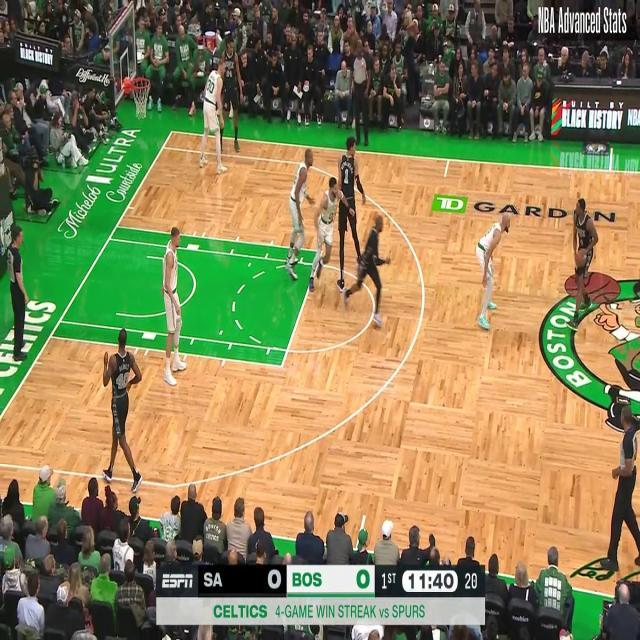ball: (570, 239, 592, 278)
player: (100, 326, 144, 495), (342, 210, 392, 330), (307, 175, 353, 294), (335, 134, 367, 294), (564, 196, 600, 330), (473, 210, 512, 332), (160, 225, 188, 388), (284, 146, 316, 282), (198, 53, 228, 177), (217, 34, 246, 156)
